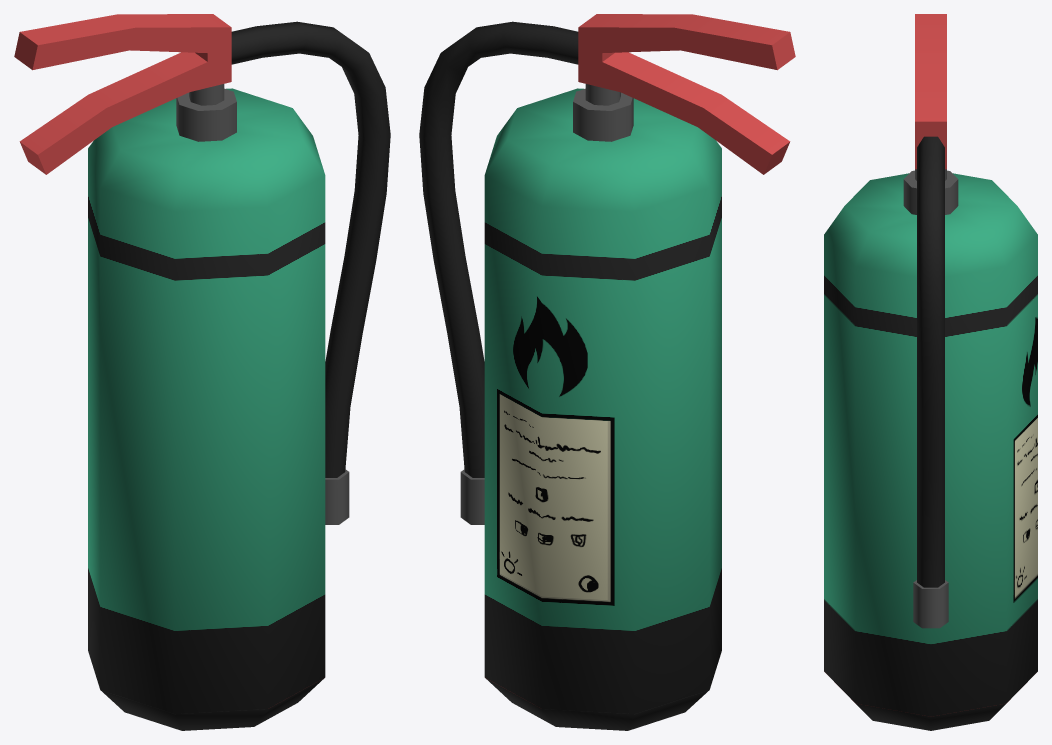
Rendered from FireEx.fbx.
3 renders of one model, left to right at view 1: azimuth 30°, elevation 25°; view 2: azimuth 150°, elevation 25°; view 3: azimuth 270°, elevation 25°, orthographic. The views are drawn at different scales.
Parts seen in each view (by area): view 1: Circle.001, NurbsPath.004, Plane.007; view 2: Circle.001, NurbsPath.004, Plane.007; view 3: Circle.001, NurbsPath.004, Plane.007.
Part boxes in pixels (bbox=[...]): Circle.001: bbox=[88, 84, 325, 730]; NurbsPath.004: bbox=[231, 21, 390, 524]; Plane.007: bbox=[14, 14, 231, 174]; Circle.001: bbox=[484, 84, 721, 730]; NurbsPath.004: bbox=[419, 21, 578, 524]; Plane.007: bbox=[578, 14, 795, 174]; Circle.001: bbox=[824, 169, 1037, 730]; NurbsPath.004: bbox=[913, 136, 948, 628]; Plane.007: bbox=[915, 14, 946, 169].
Size of the model in its own units: 49.65 by 91.04 by 29.08.
Materials: 1 (1 with a texture image).
